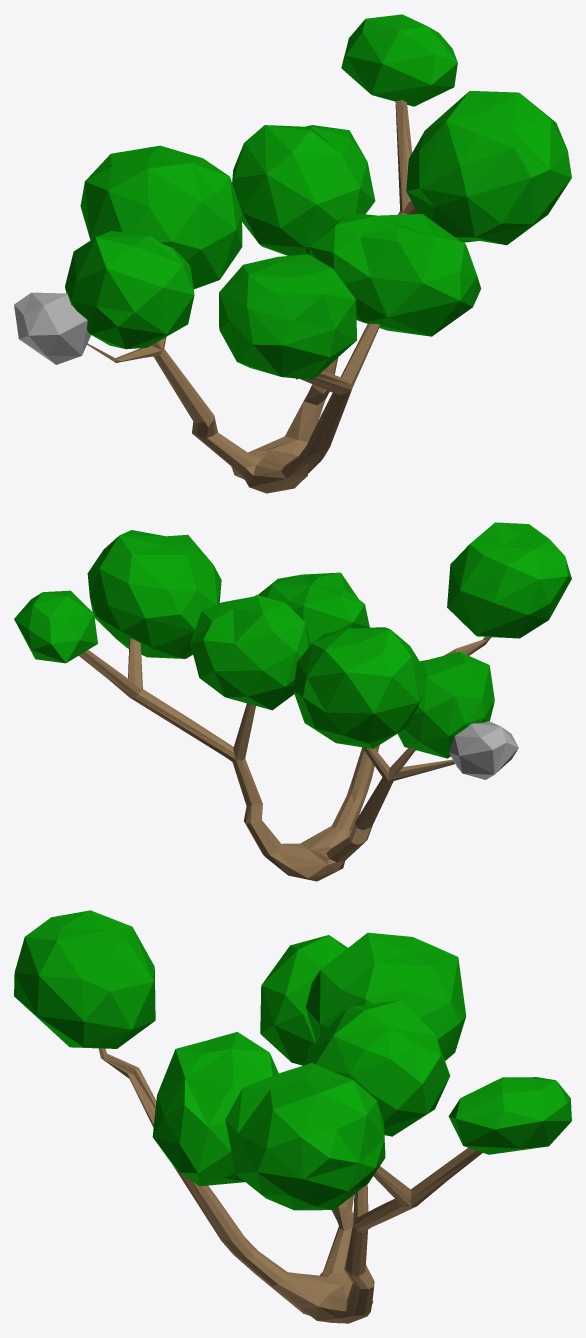
The model's file is Strauch_Mesh_LOD.fbx.
3 views of the same model, one above another, from view 1: azimuth 30°, elevation 25°; view 2: azimuth 150°, elevation 25°; view 3: azimuth 270°, elevation 25° (orthographic). The views are drawn at different scales.
Parts seen in each view (by area): view 1: Strauch_LOD0; view 2: Strauch_LOD0; view 3: Strauch_LOD0.
Part boxes in pixels (x1,y1,x2,y2): Strauch_LOD0: (14, 14, 571, 493); Strauch_LOD0: (14, 522, 571, 881); Strauch_LOD0: (14, 910, 571, 1323).
Size of what is drawn, in the model's own units: 50.46 by 32.13 by 47.1.
